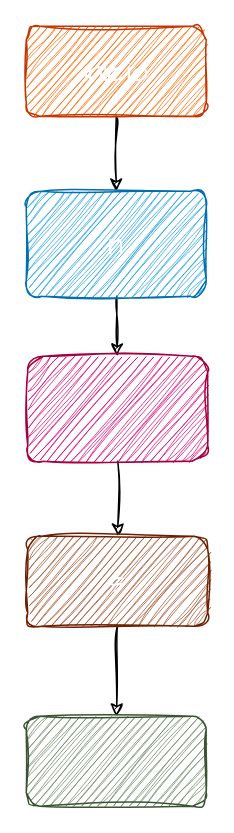
This 234x833 diagram has some shape labels left out. The shapes that lost their labels are listed below. From the top down, each one's centre as x and y in pixels, then its label:
At (x=117, y=408): "s= n(n+1)/2".
At (x=115, y=760): "fin".
